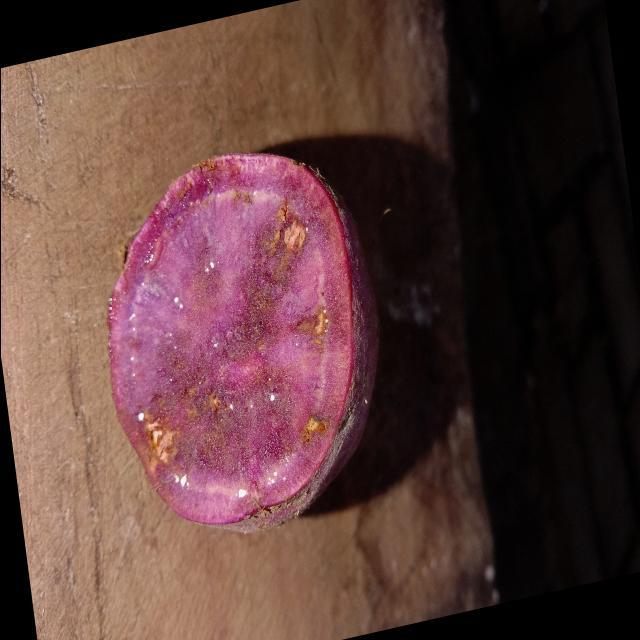Sick Sweet Potato_Tuber Rot: (108, 153, 378, 532)
